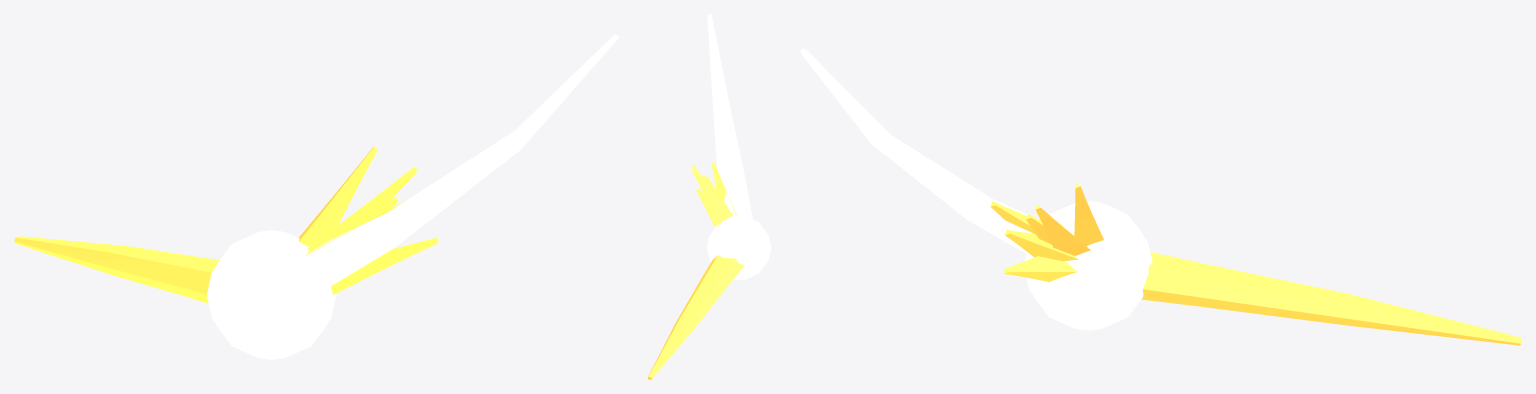
Rendered from vfx-mesh-library-ricochet-streak-b17b8d33__21859.glb.
The picture shows the model from 3 angles, left to right: view 1: azimuth 30°, elevation 25°; view 2: azimuth 150°, elevation 25°; view 3: azimuth 270°, elevation 25°; orthographic projection. The views are drawn at different scales.
Parts seen in each view (by area): view 1: ricochet-streak; view 2: ricochet-streak; view 3: ricochet-streak.
Part boxes in pixels (bbox=[...]): ricochet-streak: bbox=[14, 34, 618, 359]; ricochet-streak: bbox=[647, 14, 771, 379]; ricochet-streak: bbox=[800, 48, 1521, 345].
Bounding box in the file's own units: 0.3487 × 0.5255 × 0.8349.
